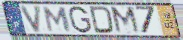7: (134, 5, 158, 36)
D: (88, 5, 115, 35)
G: (68, 5, 93, 34)
M: (109, 6, 143, 36), (43, 6, 72, 33)
V: (19, 5, 44, 34)
